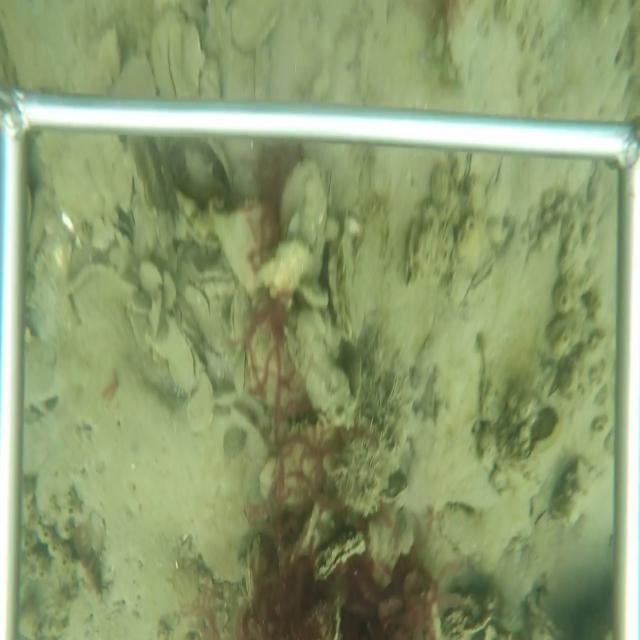Oyster-Closed: (152, 312, 202, 398), (228, 287, 252, 350), (231, 348, 252, 403)
Oyster-Open: (313, 530, 371, 584)
